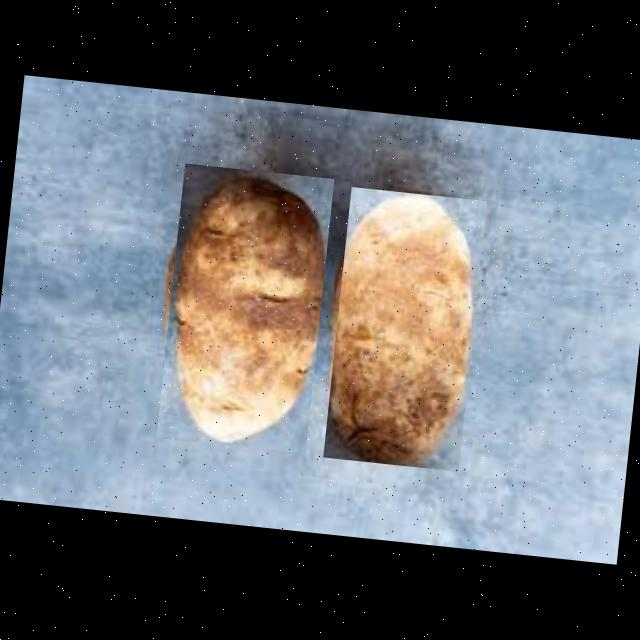Damaged potato: (156, 163, 334, 453), (322, 186, 487, 472)
